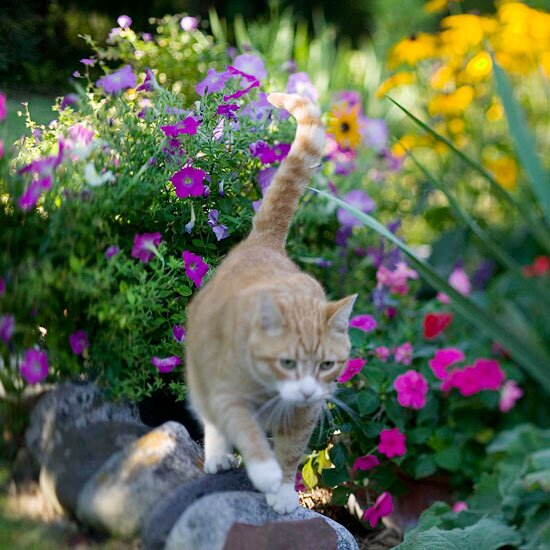cat: (187, 108, 359, 513)
